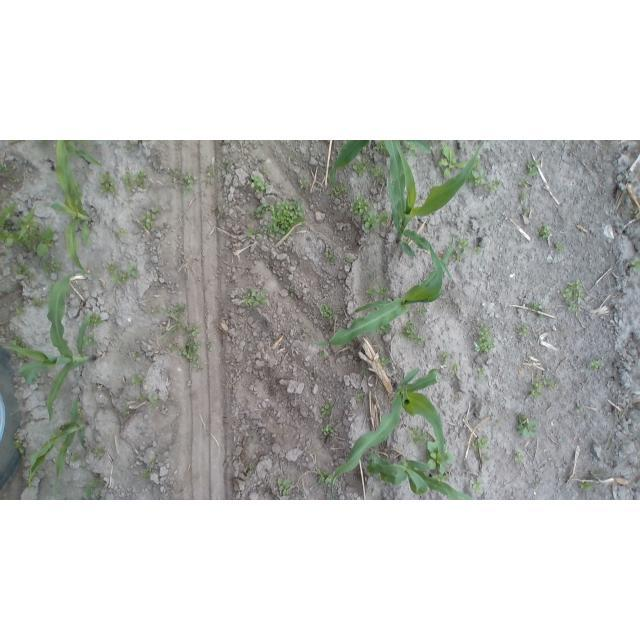Maize: (314, 229, 452, 345), (330, 364, 446, 500), (4, 269, 99, 424), (385, 141, 485, 258), (30, 394, 89, 498), (51, 140, 93, 272), (366, 449, 473, 500), (330, 140, 373, 190), (68, 140, 101, 168), (407, 141, 432, 156), (87, 474, 101, 500)
Weeds: (1, 202, 56, 258), (267, 195, 306, 238), (180, 323, 204, 371), (160, 300, 184, 337), (527, 367, 553, 401), (428, 441, 453, 475), (436, 146, 464, 176), (472, 324, 498, 356), (237, 285, 269, 308), (108, 260, 140, 283), (563, 281, 586, 312), (400, 320, 425, 344), (121, 171, 148, 192), (517, 414, 538, 441), (140, 452, 161, 478), (139, 205, 162, 228), (97, 170, 118, 193), (452, 234, 469, 262), (13, 263, 35, 282), (316, 466, 333, 489), (350, 194, 371, 212), (274, 477, 294, 495), (179, 173, 195, 195), (42, 259, 65, 274), (250, 173, 267, 193), (320, 401, 336, 422), (136, 391, 160, 405), (469, 475, 486, 494), (475, 157, 486, 185), (411, 429, 426, 448), (94, 445, 112, 460), (12, 439, 27, 456), (319, 303, 336, 318), (518, 176, 528, 201), (515, 325, 531, 340), (370, 161, 385, 177), (351, 163, 366, 179), (473, 435, 490, 449), (592, 357, 606, 373), (527, 160, 541, 176), (165, 338, 180, 352), (322, 423, 336, 438), (361, 213, 375, 228), (324, 246, 337, 262), (252, 206, 264, 223), (539, 226, 553, 240), (333, 186, 349, 198), (135, 370, 146, 387), (10, 335, 27, 346), (578, 478, 591, 492), (83, 333, 96, 347), (70, 450, 85, 462), (375, 142, 387, 157), (629, 256, 640, 272), (377, 208, 387, 225), (30, 296, 44, 308), (512, 450, 527, 461), (89, 313, 101, 326), (115, 228, 129, 238), (379, 325, 393, 335), (530, 301, 544, 311), (205, 165, 215, 178), (629, 209, 640, 220), (439, 350, 449, 362), (488, 181, 503, 189), (364, 285, 374, 297), (344, 254, 354, 266), (418, 306, 431, 315), (378, 284, 387, 297), (13, 306, 27, 314), (355, 395, 365, 406), (554, 240, 565, 250), (299, 179, 309, 189), (1, 164, 12, 173), (286, 285, 296, 294), (450, 363, 459, 373), (11, 176, 22, 184), (522, 207, 530, 218), (248, 228, 256, 238), (476, 367, 486, 375), (476, 244, 483, 254), (576, 401, 582, 412), (207, 341, 214, 350), (79, 140, 88, 146), (319, 349, 325, 357), (132, 352, 141, 357), (551, 140, 557, 145)
